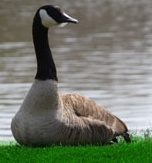goose: (9, 4, 140, 153)
